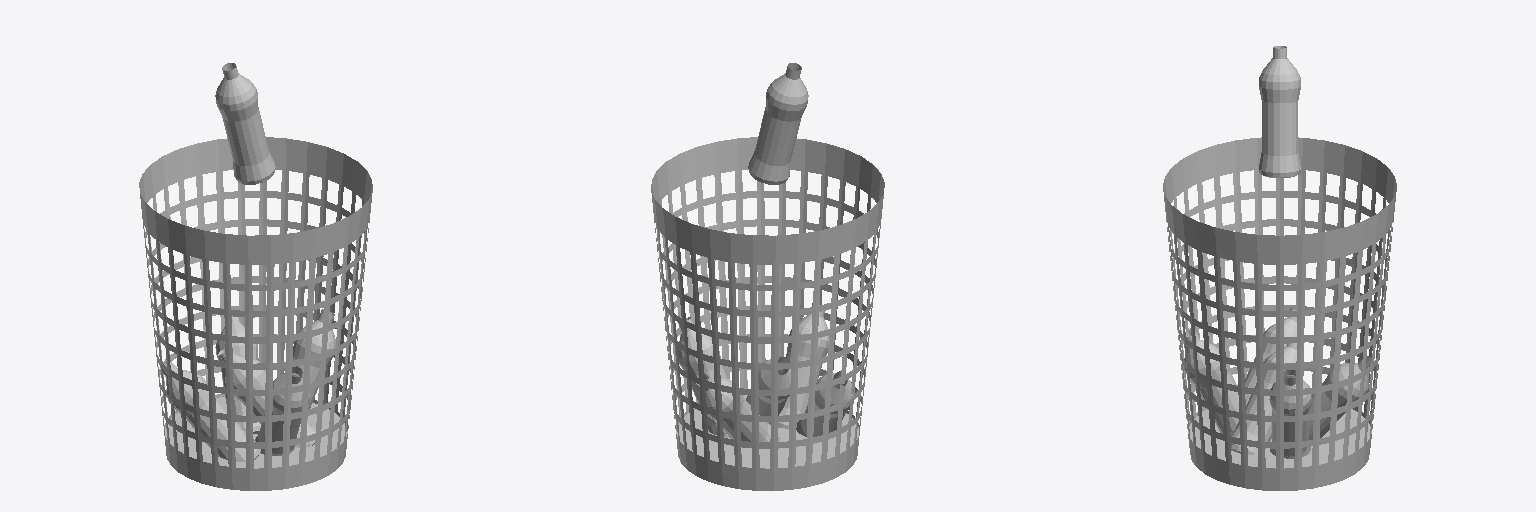
File: DustbinWithCan_000018.obj
3 renders of one model, left to right at view 1: azimuth 30°, elevation 25°; view 2: azimuth 150°, elevation 25°; view 3: azimuth 270°, elevation 25°, orthographic.
Parts seen in each view (by area): view 1: Cylinder, Plane.006, Plane.005, Plane.001, Plane.004, Plane.003, Plane.002; view 2: Cylinder, Plane.006, Plane.001, Plane.002, Plane.005, Plane.003, Plane.004; view 3: Cylinder, Plane.006, Plane.001, Plane.004, Plane.003, Plane.002, Plane.005.
Part boxes in pixels (x1,y1,x2,y2): Cylinder: (139, 137, 372, 490); Plane.006: (215, 63, 275, 184); Plane.005: (160, 360, 260, 461); Plane.001: (255, 366, 310, 455); Plane.004: (218, 348, 315, 447); Plane.003: (284, 309, 335, 409); Plane.002: (215, 316, 260, 433); Cylinder: (651, 137, 884, 490); Plane.006: (748, 63, 808, 184); Plane.001: (770, 303, 828, 428); Plane.002: (696, 373, 779, 447); Plane.005: (796, 371, 854, 436); Plane.003: (678, 317, 729, 437); Plane.004: (746, 357, 790, 423); Cylinder: (1163, 137, 1396, 490); Plane.006: (1259, 46, 1300, 177); Plane.001: (1184, 331, 1246, 435); Plane.004: (1231, 343, 1296, 454); Plane.003: (1269, 370, 1311, 458); Plane.002: (1309, 356, 1374, 439); Plane.005: (1245, 308, 1296, 402).
Size of the model in its own units: 2.6 by 4.84 by 2.6.